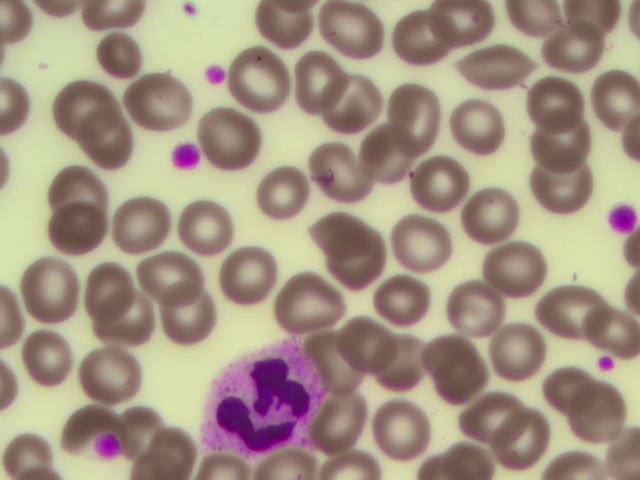Platelets: (604, 205, 637, 233), (172, 142, 201, 170), (97, 434, 122, 454), (590, 352, 615, 372), (207, 64, 223, 86), (180, 4, 198, 15)
RBC: (321, 420, 381, 480), (88, 26, 148, 85), (131, 71, 191, 130), (55, 71, 115, 130), (75, 115, 135, 174), (43, 152, 103, 211), (53, 193, 113, 252), (104, 195, 164, 254), (169, 196, 229, 255), (144, 236, 204, 295), (160, 287, 220, 346), (104, 294, 164, 353), (73, 267, 133, 326), (19, 259, 79, 318), (23, 324, 83, 383), (74, 342, 134, 401), (68, 376, 128, 435), (113, 395, 173, 454), (136, 415, 196, 474), (307, 388, 367, 447), (306, 323, 366, 382), (331, 320, 391, 379), (279, 272, 339, 331), (233, 252, 293, 311), (247, 167, 307, 226), (202, 105, 262, 164), (231, 47, 291, 106), (247, 2, 307, 61), (284, 43, 344, 102), (326, 66, 386, 125), (322, 3, 382, 62), (384, 5, 444, 64), (483, 32, 543, 91), (555, 11, 615, 70), (527, 60, 587, 119), (533, 108, 593, 167), (534, 166, 594, 225), (463, 191, 523, 250), (412, 160, 472, 219), (359, 119, 419, 178), (383, 81, 443, 140), (441, 95, 501, 154), (318, 143, 378, 202), (315, 198, 375, 257), (338, 229, 398, 288), (371, 276, 431, 335), (391, 217, 451, 276), (447, 281, 507, 340), (476, 231, 536, 290), (534, 276, 594, 335), (573, 288, 633, 347), (485, 332, 545, 391), (434, 349, 494, 408), (415, 324, 475, 383), (387, 337, 447, 396), (378, 404, 438, 463), (486, 412, 546, 471), (459, 376, 519, 435), (543, 361, 603, 420), (561, 388, 621, 447), (426, 1, 486, 59), (515, 1, 575, 59), (595, 66, 640, 133)
WBC: (210, 345, 324, 449)
